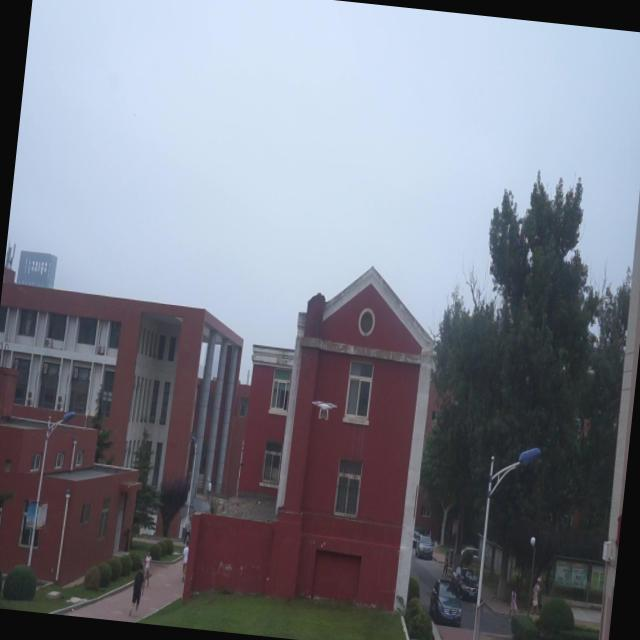drone: (308, 392, 339, 423)
